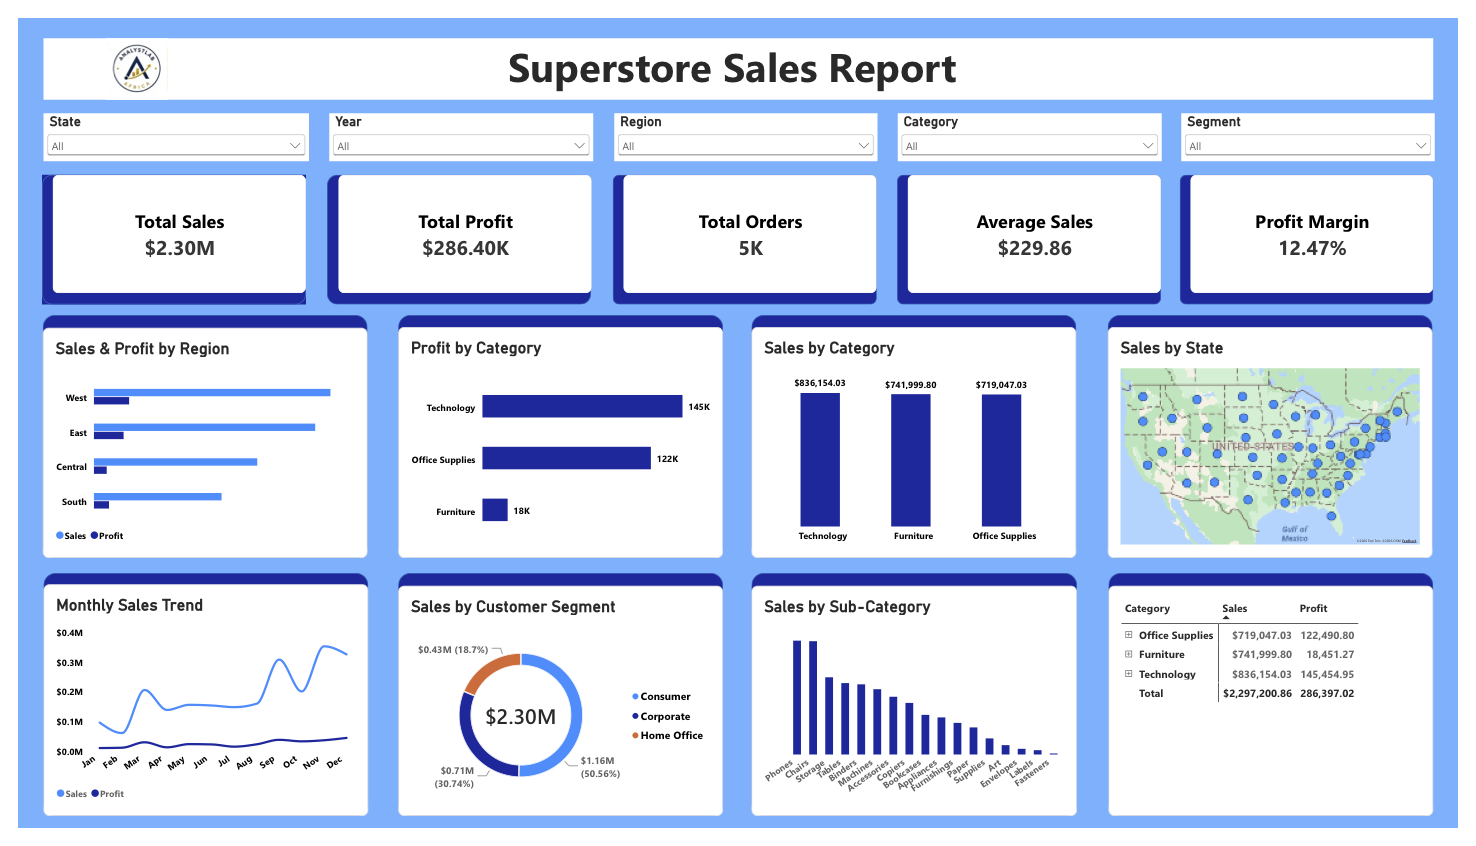

This screenshot's page, from the dashboard's own definition file:
{"tool":"powerbi","page":{"name":"Dashboard","canvas":[1920,1080],"ordinal":0},"visuals":[{"type":"shape","box":[31.5,209.2,352,172.9],"z":0},{"type":"shape","box":[793.1,209.2,352,172.9],"z":0,"group":"g1"},{"type":"shape","box":[1548.6,209.2,337.6,172.9],"z":0,"group":"g2"},{"type":"cardVisual","fields":{"Data":["Sample - Superstore.Total Orders"]},"box":[807.5,209.2,338,158],"z":1000,"group":"g1"},{"type":"shape","box":[1171.8,209.2,352,172.9],"z":1000},{"type":"cardVisual","fields":{"Data":["Sample - Superstore.Profit Margin"]},"box":[1562.4,209.2,324.2,158],"z":1000,"group":"g2"},{"type":"shape","box":[412.3,209.2,352,172.9],"z":2000},{"type":"cardVisual","fields":{"Data":["Sample - Superstore.Average Sales"]},"box":[1186.3,209.2,338,158],"z":3000},{"type":"cardVisual","fields":{"Data":["Sample - Superstore.Total Sales"]},"box":[45.9,209.2,338,158],"z":4000},{"type":"cardVisual","fields":{"Data":["Sample - Superstore.Total Profit"]},"box":[426.7,209.2,338,158],"z":5000},{"type":"group","id":"g1","title":"Group 3","box":[793.1,209.2,352.4,172.9],"z":6000},{"type":"group","id":"g2","title":"Group 5","box":[1548.6,209.2,338,172.9],"z":7000},{"type":"shape","box":[33.2,395.6,433.3,323.9],"z":7000,"group":"g4"},{"type":"shape","box":[506.5,395.6,433.3,323.9],"z":8000},{"type":"shape","box":[507.1,740.1,433.3,323.9],"z":9000},{"type":"shape","box":[977.7,395.6,433.3,323.9],"z":10000},{"type":"shape","box":[978.3,740.1,433.3,323.9],"z":11000},{"type":"shape","box":[1453,395.6,433.3,323.9],"z":12000},{"type":"shape","box":[1453.7,740.1,433.3,323.9],"z":13000},{"type":"clusteredBarChart","title":"Profit by Category","fields":{"Category":["Sample - Superstore.Category"],"Y":["Sum(Sample - Superstore.Profit)"]},"box":[506.5,412.4,433.3,307.1],"z":14000},{"type":"shape","box":[33.9,740.1,433.3,323.9],"z":14000,"group":"g3"},{"type":"lineChart","title":"Monthly Sales Trend","fields":{"Category":["Sample - Superstore.Month"],"Y":["Sum(Sample - Superstore.Sales)","Sum(Sample - Superstore.Profit)"]},"box":[33.9,754.8,433.3,309.2],"z":15000,"group":"g3"},{"type":"donutChart","title":"Sales by Customer Segment","fields":{"Category":["Sample - Superstore.Segment"],"Y":["Sum(Sample - Superstore.Sales)"]},"box":[507.1,757,433.3,307.1],"z":15000},{"type":"clusteredBarChart","title":"Sales & Profit by Region","fields":{"Category":["Sample - Superstore.Region"],"Y":["Sum(Sample - Superstore.Sales)","Sum(Sample - Superstore.Profit)"]},"box":[33.2,412.4,433.3,307.1],"z":16000,"group":"g4"},{"type":"columnChart","title":"Sales by Category","fields":{"Category":["Sample - Superstore.Category"],"Y":["Sum(Sample - Superstore.Sales)"]},"box":[977.7,412.4,433.3,307.1],"z":16000},{"type":"columnChart","title":"Sales by Sub-Category","fields":{"Category":["Sample - Superstore.Sub-Category"],"Y":["Sum(Sample - Superstore.Sales)"]},"box":[978.3,757,433.3,307.1],"z":17000},{"type":"azureMap","title":"Sales by State","fields":{"Category":["Sample - Superstore.State","Sample - Superstore.Country"]},"box":[1453,412.4,433.3,307.1],"z":18000},{"type":"pivotTable","fields":{"Rows":["Sample - Superstore.Category","Sample - Superstore.Sub-Category"],"Values":["Sum(Sample - Superstore.Sales)","Sum(Sample - Superstore.Profit)"]},"box":[1453.7,757,433.3,307.1],"z":19000},{"type":"slicer","fields":{"Values":["Sample - Superstore.State"]},"box":[33.9,126.9,354,64],"z":20000},{"type":"slicer","fields":{"Values":["Sample - Superstore.Year"]},"box":[414.9,126.9,352,64],"z":21000},{"type":"slicer","fields":{"Values":["Sample - Superstore.Region"]},"box":[794.9,127.2,351.4,64.3],"z":22000},{"type":"slicer","fields":{"Values":["Sample - Superstore.Category"]},"box":[1173.5,127.2,351.4,64.3],"z":23000},{"type":"slicer","fields":{"Values":["Sample - Superstore.Segment"]},"box":[1550.6,127.2,338.6,64.3],"z":24000},{"type":"group","id":"g3","title":"Group 1","box":[33.9,740.1,433.3,323.9],"z":25000},{"type":"group","id":"g4","title":"Group 2","box":[33.2,395.6,433.3,323.9],"z":26000},{"type":"textbox","box":[33.7,27.3,1853.1,82],"z":27000},{"type":"image","box":[67.3,27.3,183,82],"z":28000}]}

Visuals, with their boxes in screenshot pixels (x1, y1, x2, y2), scaled from the page's 1920x1080 canvas onto the 1476x846 screenshot:
shape: BBox(24, 164, 295, 299)
shape: BBox(610, 164, 880, 299)
shape: BBox(1190, 164, 1450, 299)
cardVisual - Sample - Superstore.Total Orders: BBox(621, 164, 881, 288)
shape: BBox(901, 164, 1171, 299)
cardVisual - Sample - Superstore.Profit Margin: BBox(1201, 164, 1450, 288)
shape: BBox(317, 164, 588, 299)
cardVisual - Sample - Superstore.Average Sales: BBox(912, 164, 1172, 288)
cardVisual - Sample - Superstore.Total Sales: BBox(35, 164, 295, 288)
cardVisual - Sample - Superstore.Total Profit: BBox(328, 164, 588, 288)
"Group 3" group: BBox(610, 164, 881, 299)
"Group 5" group: BBox(1190, 164, 1450, 299)
shape: BBox(26, 310, 359, 564)
shape: BBox(389, 310, 722, 564)
shape: BBox(390, 580, 723, 833)
shape: BBox(752, 310, 1085, 564)
shape: BBox(752, 580, 1085, 833)
shape: BBox(1117, 310, 1450, 564)
shape: BBox(1118, 580, 1451, 833)
"Profit by Category" clusteredBarChart: BBox(389, 323, 722, 564)
shape: BBox(26, 580, 359, 833)
"Monthly Sales Trend" lineChart: BBox(26, 591, 359, 833)
"Sales by Customer Segment" donutChart: BBox(390, 593, 723, 834)
"Sales & Profit by Region" clusteredBarChart: BBox(26, 323, 359, 564)
"Sales by Category" columnChart: BBox(752, 323, 1085, 564)
"Sales by Sub-Category" columnChart: BBox(752, 593, 1085, 834)
"Sales by State" azureMap: BBox(1117, 323, 1450, 564)
pivotTable - Sample - Superstore.Category x Sample - Superstore.Sub-Category: BBox(1118, 593, 1451, 834)
slicer - Sample - Superstore.State: BBox(26, 99, 298, 150)
slicer - Sample - Superstore.Year: BBox(319, 99, 590, 150)
slicer - Sample - Superstore.Region: BBox(611, 100, 881, 150)
slicer - Sample - Superstore.Category: BBox(902, 100, 1172, 150)
slicer - Sample - Superstore.Segment: BBox(1192, 100, 1452, 150)
"Group 1" group: BBox(26, 580, 359, 833)
"Group 2" group: BBox(26, 310, 359, 564)
textbox: BBox(26, 21, 1450, 86)
image: BBox(52, 21, 192, 86)
